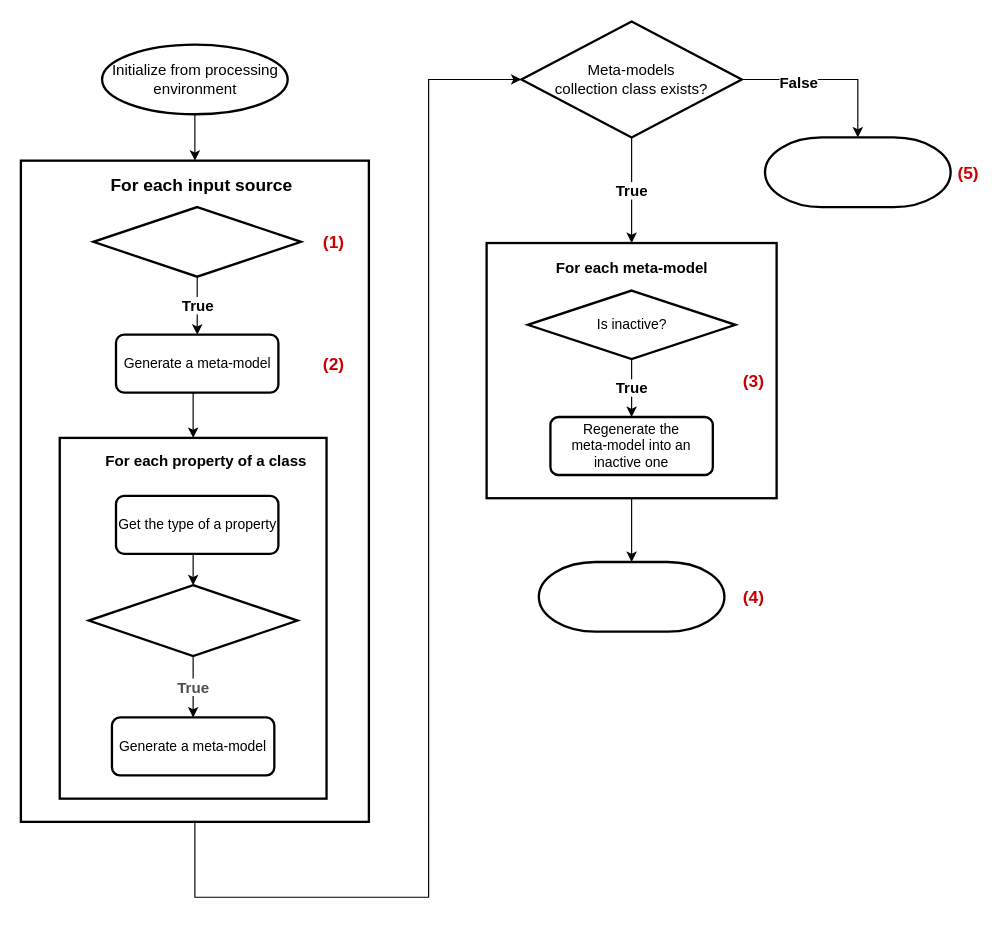
The diagram is 1006 pixels wide and 927 high, and some of its shapes have lost their labels. The box of each missing label's shape, as (x1, y1, x2, y2) in pixels:
Generate a new meta-models collection class: (763, 136, 951, 208)
Is class metamodeled?: (92, 205, 302, 277)
Is type metamodeled?: (87, 583, 298, 657)
Regenerate the meta-models collection class: (537, 560, 725, 632)
